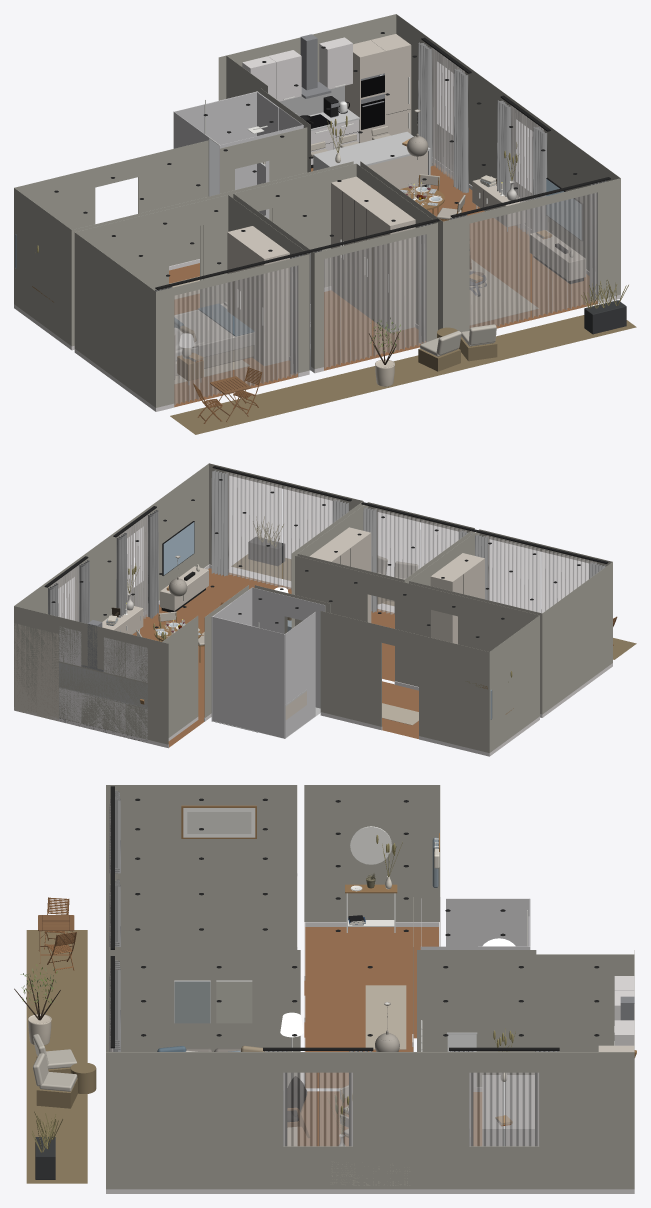
Rendered from unit-1.C-atlantic.glb.
3 views of the same model, one above another, from view 1: azimuth 30°, elevation 25°; view 2: azimuth 150°, elevation 25°; view 3: azimuth 270°, elevation 25° (orthographic). The views are drawn at different scales.
Visible parts, largest first — view 1: int-wall, int-sheer, int-joineryTall, int-floor, int-curtain, int-deck, int-joinery, int-showerWall, int-rug, int-matteBlack, int-worktop, int-bathWall (+14 smaller); view 2: int-wall, int-sheer, int-bathWall, int-joineryTall, int-curtain, int-joinery, int-floor, int-splash, int-skirting, int-matteBlack, int-hallFloor, int-deck (+5 smaller); view 3: int-wall, int-hallFloor, int-deck, int-sheer, int-bathWall, int-worktop, int-skirting, int-curtain, int-floor, int-rug, int-matteBlack, int-metal (+15 smaller).
Boxes of the visible parts, x1,y1,x2,y2 form: int-wall: [14, 14, 620, 407]; int-sheer: [174, 47, 597, 404]; int-joineryTall: [227, 34, 585, 365]; int-floor: [174, 163, 597, 407]; int-curtain: [155, 42, 606, 374]; int-deck: [170, 315, 636, 434]; int-joinery: [242, 37, 359, 164]; int-showerWall: [204, 91, 278, 215]; int-rug: [169, 259, 538, 383]; int-matteBlack: [155, 37, 610, 289]; int-worktop: [259, 108, 430, 187]; int-bathWall: [173, 91, 303, 219]; int-wall: [14, 463, 612, 752]; int-sheer: [51, 472, 596, 621]; int-bathWall: [211, 587, 325, 738]; int-joineryTall: [14, 527, 484, 721]; int-curtain: [48, 470, 605, 623]; int-joinery: [59, 626, 147, 739]; int-floor: [132, 568, 394, 747]; int-splash: [59, 662, 147, 708]; int-skirting: [14, 564, 612, 756]; int-matteBlack: [44, 466, 608, 740]; int-hallFloor: [382, 681, 418, 738]; int-deck: [231, 554, 636, 659]; int-wall: [106, 785, 634, 1189]; int-hallFloor: [304, 927, 438, 1088]; int-deck: [26, 930, 87, 1183]; int-sheer: [109, 798, 539, 1146]; int-bathWall: [420, 898, 530, 949]; int-worktop: [447, 1032, 534, 1146]; int-skirting: [106, 922, 634, 1193]; int-curtain: [113, 790, 558, 1146]; int-floor: [298, 1091, 481, 1146]; int-rug: [287, 985, 406, 1145]; int-matteBlack: [110, 786, 559, 1050]; int-metal: [291, 826, 614, 1079].
Bounding box in the file's own units: 10.9 × 2.8 × 10.71.
